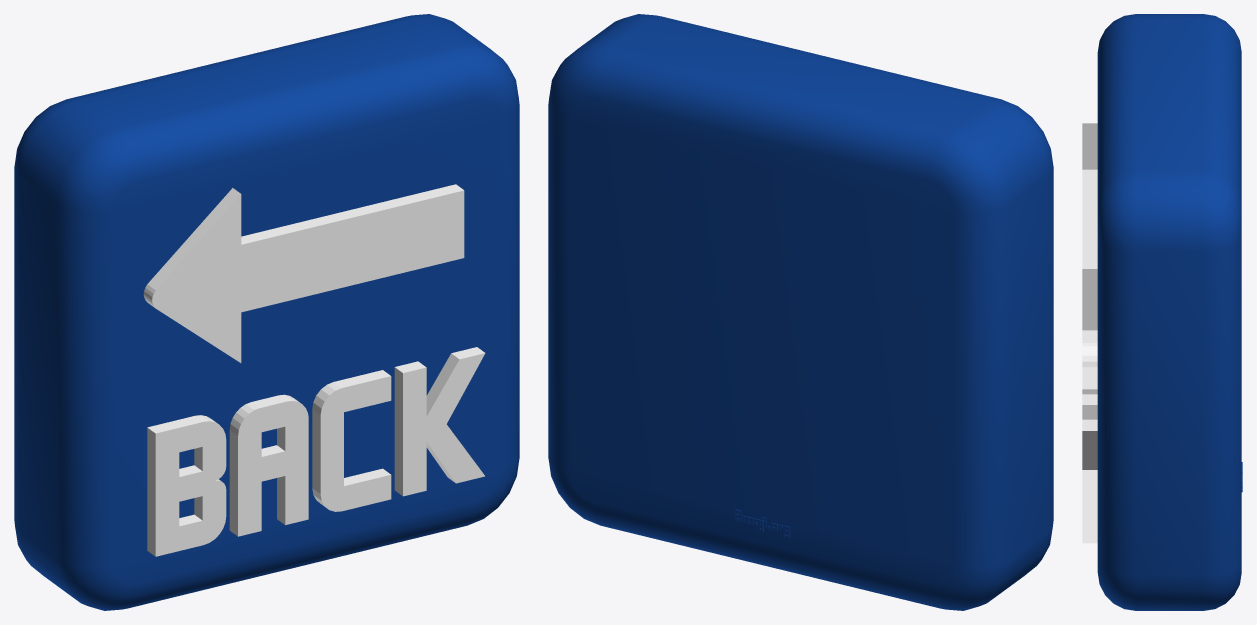
File: back_arrow.fbx
The picture shows the model from 3 angles, left to right: view 1: azimuth 30°, elevation 25°; view 2: azimuth 150°, elevation 25°; view 3: azimuth 270°, elevation 25°; orthographic projection. The views are drawn at different scales.
Visible parts, largest first — view 1: Cube.6348; view 2: Cube.6348; view 3: Cube.6348.
Boxes of the visible parts, x1,y1,x2,y2 form: Cube.6348: (14,14,519,610); Cube.6348: (548,14,1053,610); Cube.6348: (1082,14,1242,610).
Bounding box in the file's own units: 220 × 220 × 73.38.
1 material, 1 textured.
